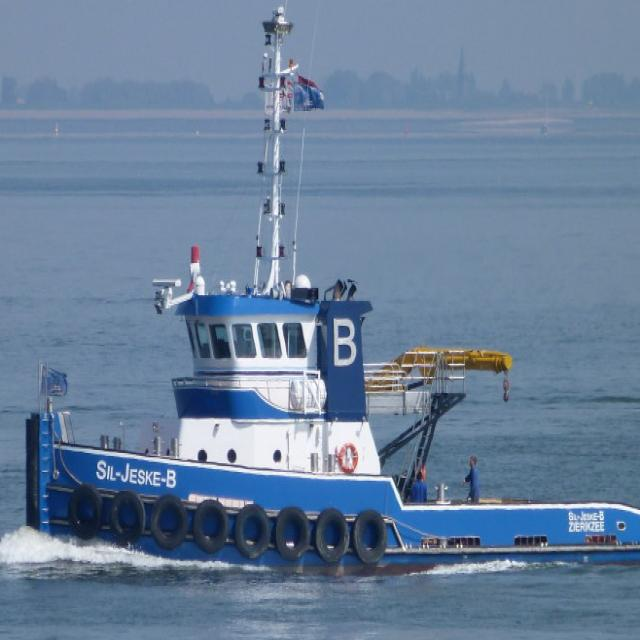tugboat: (17, 2, 640, 592)
